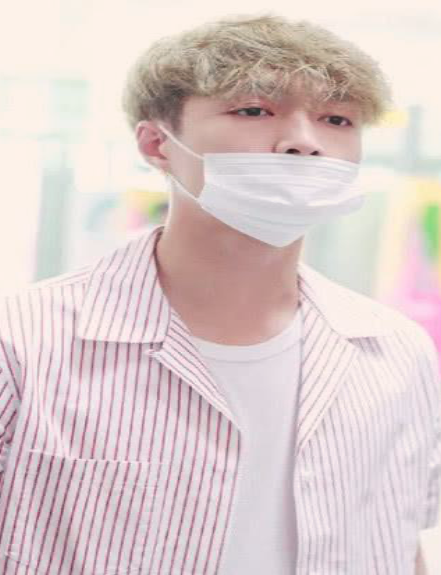mask_weared_incorrect: (176, 97, 370, 251)
